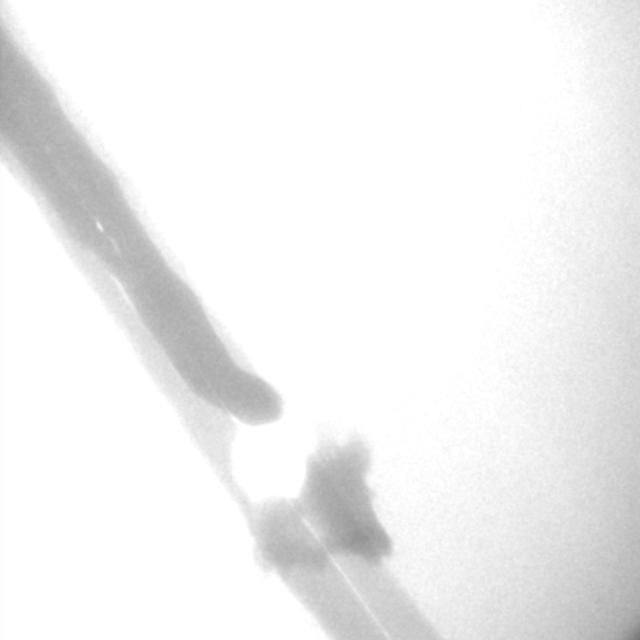air hole: (93, 220, 104, 236)
broken arc: (226, 409, 389, 637)
